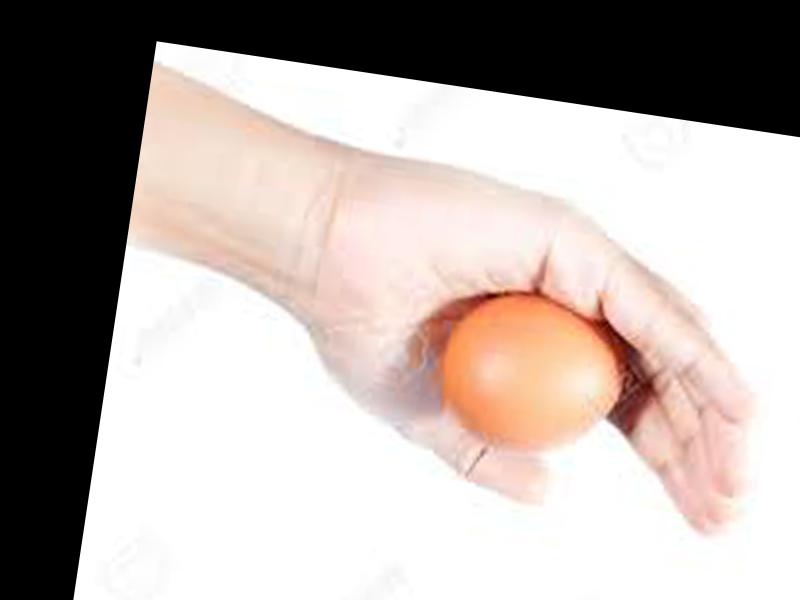Eggs: (432, 287, 630, 462)
